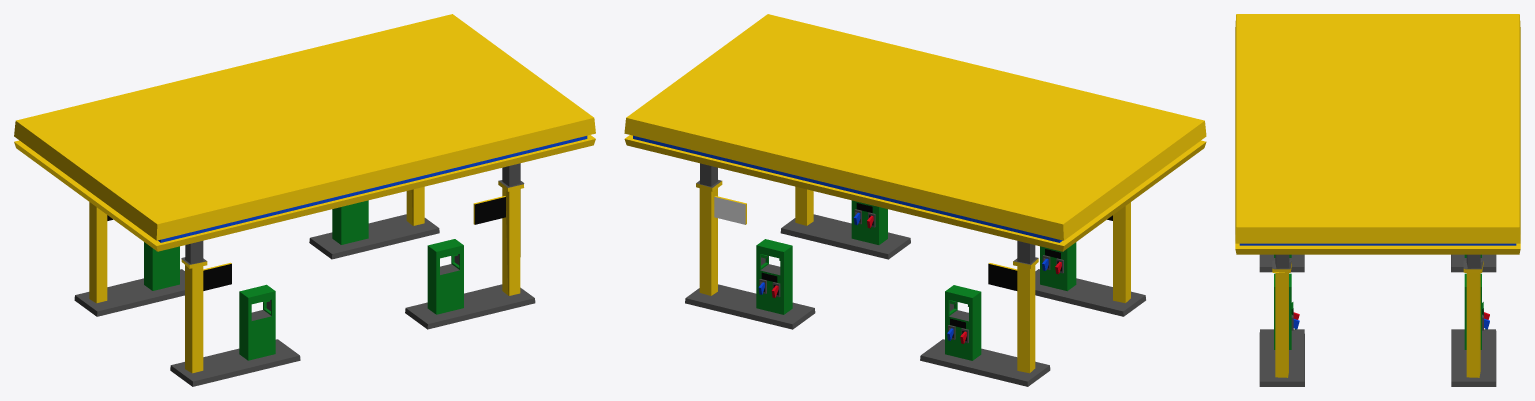
Rendered from PostoNovo.fbx.
3 renders of one model, left to right at view 1: azimuth 30°, elevation 25°; view 2: azimuth 150°, elevation 25°; view 3: azimuth 270°, elevation 25°, orthographic.
Parts seen in each view (by area): view 1: PostoDeGasolina; view 2: PostoDeGasolina; view 3: PostoDeGasolina.
Boxes of the visible parts, bbox=[...] form: PostoDeGasolina: bbox=[14, 14, 595, 386]; PostoDeGasolina: bbox=[624, 14, 1206, 386]; PostoDeGasolina: bbox=[1235, 14, 1520, 386].
Bounding box in the file's own units: 6896 × 2739 × 3875.
